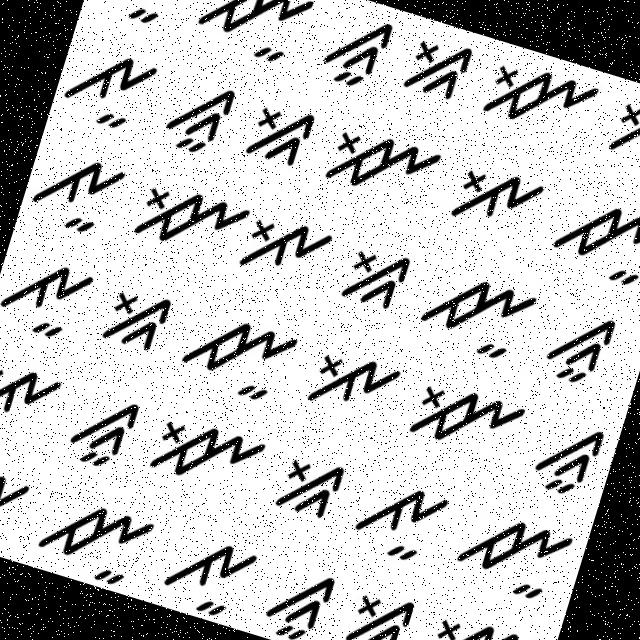ah: (343, 459, 460, 576), (48, 32, 162, 146), (147, 516, 261, 626), (0, 239, 105, 353), (23, 140, 130, 246), (80, 0, 199, 42)
nggah: (531, 302, 628, 398), (522, 408, 617, 506), (153, 66, 242, 169), (62, 379, 150, 482), (310, 0, 399, 98), (249, 552, 343, 639)
nggo: (323, 228, 419, 322), (86, 272, 180, 364), (268, 436, 352, 534), (390, 24, 478, 110), (233, 87, 318, 175), (335, 577, 424, 639)
njah: (439, 494, 578, 614), (170, 293, 308, 411), (28, 478, 160, 594), (410, 260, 541, 370), (539, 178, 639, 304), (191, 0, 325, 78)
njo: (472, 43, 610, 154), (315, 109, 447, 224), (404, 359, 536, 468), (122, 167, 254, 270), (141, 400, 269, 506), (419, 595, 553, 639)
o: (297, 323, 408, 432), (438, 142, 552, 245), (234, 198, 338, 298), (0, 344, 72, 441), (0, 446, 43, 546), (604, 83, 639, 176)
